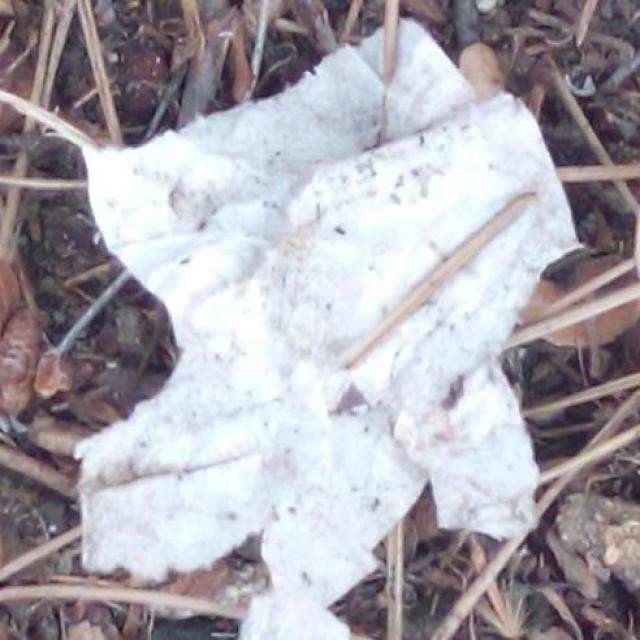litter: (72, 14, 589, 634)
